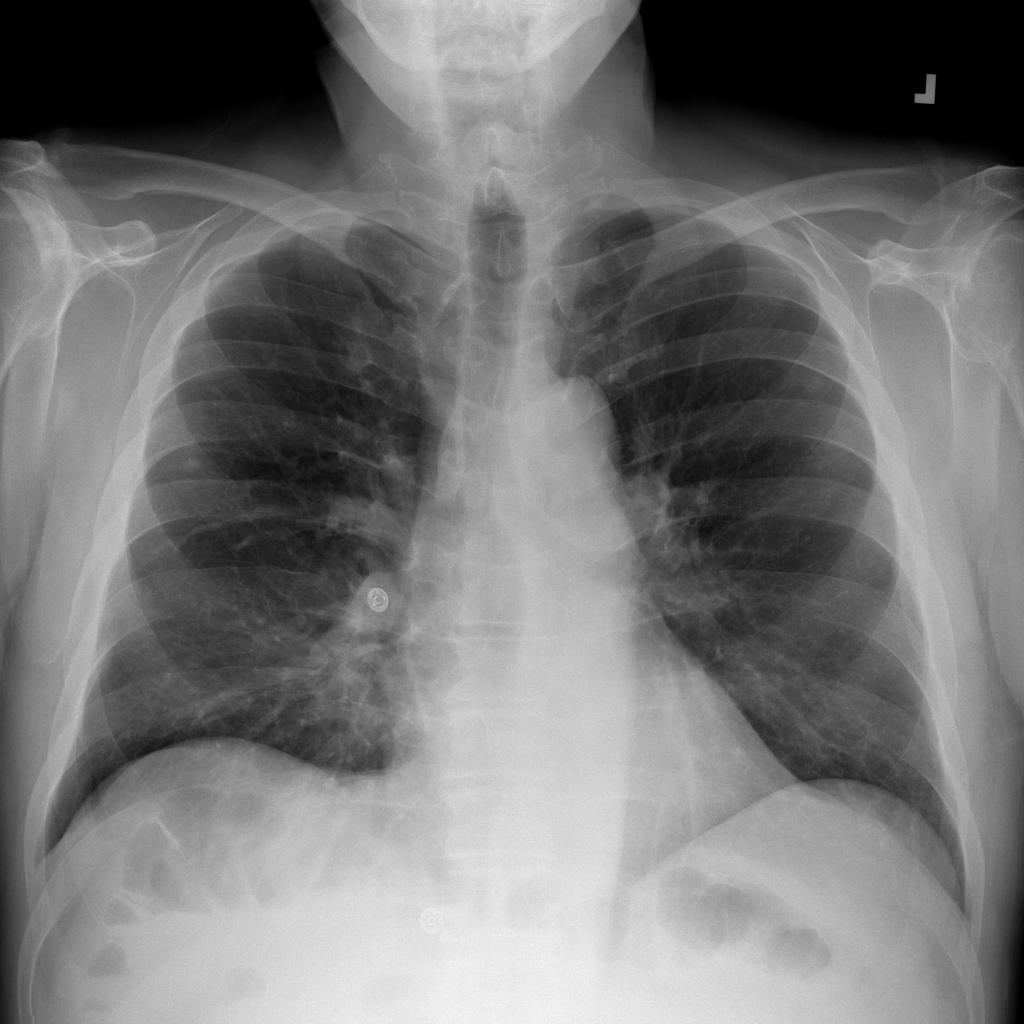nodule: (150, 431, 230, 495)
